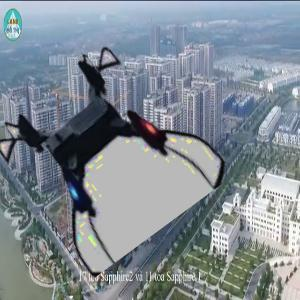drone: (8, 58, 200, 250)
